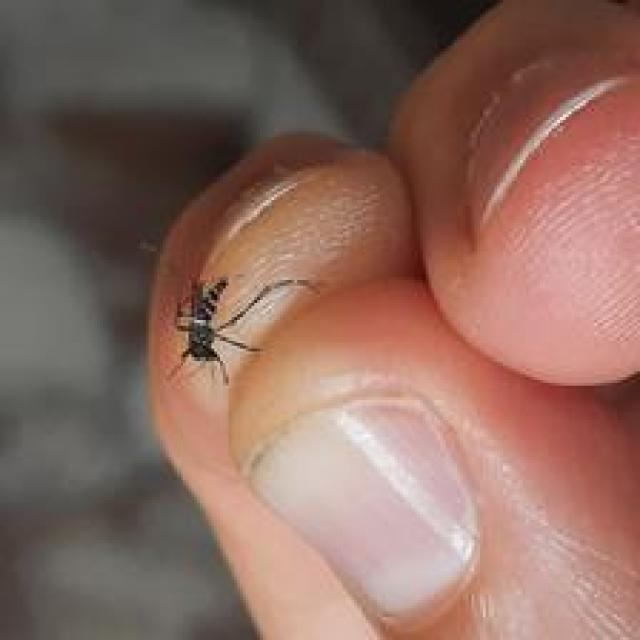Aedes albopictus: (164, 272, 316, 388)
